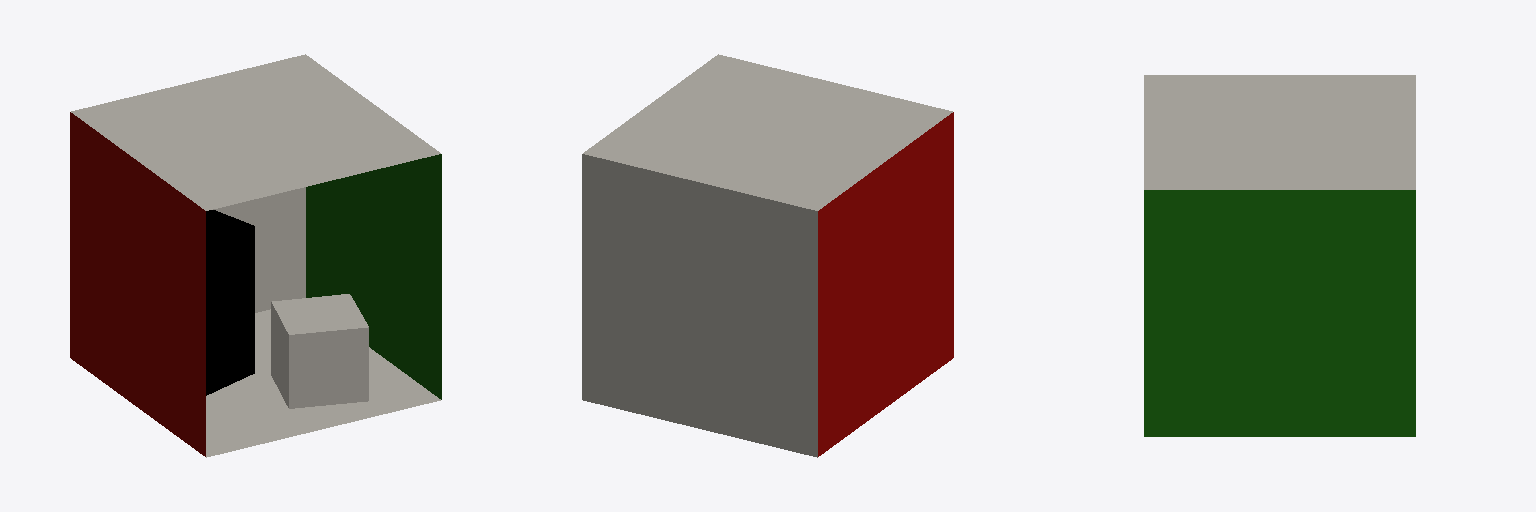
File: cornellbox2.obj
3 views of the same model, side by side, from view 1: azimuth 30°, elevation 25°; view 2: azimuth 150°, elevation 25°; view 3: azimuth 270°, elevation 25° (orthographic).
Visible parts, largest first — view 1: leftwall, ceiling, rightwall, floor, shortbox, tallbox, backwall; view 2: backwall, leftwall, ceiling; view 3: rightwall, ceiling.
Boxes of the visible parts, <box> form: leftwall: <box>70,112,205,456</box>; ceiling: <box>71,54,440,210</box>; rightwall: <box>306,154,441,399</box>; floor: <box>206,309,440,457</box>; shortbox: <box>271,294,368,408</box>; tallbox: <box>206,210,254,395</box>; backwall: <box>213,187,305,312</box>; backwall: <box>582,154,817,457</box>; leftwall: <box>818,112,953,456</box>; ceiling: <box>583,54,952,210</box>; rightwall: <box>1144,190,1415,436</box>; ceiling: <box>1144,75,1415,189</box>.
Bounding box in the file's own units: 2 × 2 × 2.